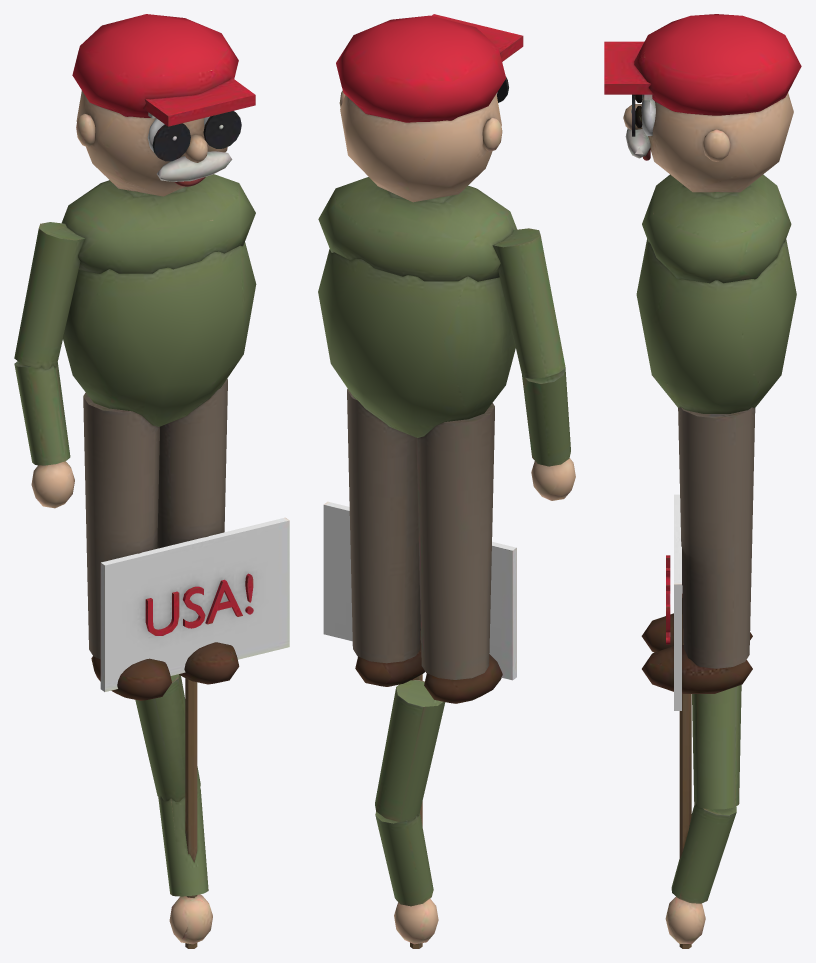
File: abuelo.glb
3 renders of one model, left to right at view 1: azimuth 30°, elevation 25°; view 2: azimuth 150°, elevation 25°; view 3: azimuth 270°, elevation 25°, orthographic. The views are drawn at different scales.
Visible parts, largest first — view 1: abuelo_cuerpo, abuelo_brazo; view 2: abuelo_cuerpo, abuelo_brazo; view 3: abuelo_cuerpo, abuelo_brazo.
Part boxes in pixels (box(x1,y1,x2,y2)): abuelo_cuerpo: box(14, 14, 256, 700); abuelo_brazo: box(100, 517, 289, 948); abuelo_cuerpo: box(318, 14, 575, 703); abuelo_brazo: box(323, 501, 516, 948); abuelo_cuerpo: box(604, 14, 801, 693); abuelo_brazo: box(665, 494, 741, 948).
Size of the model in its own units: 0.7089 by 2.46 by 0.4831.
2 materials, 2 textured.
